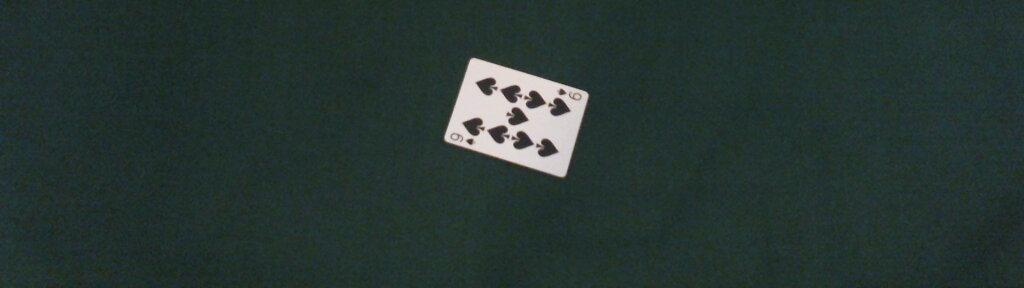nine: (444, 57, 591, 178)
